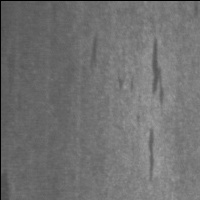inclusion: (150, 36, 166, 107), (144, 126, 158, 184), (84, 32, 101, 76), (115, 73, 137, 95)
